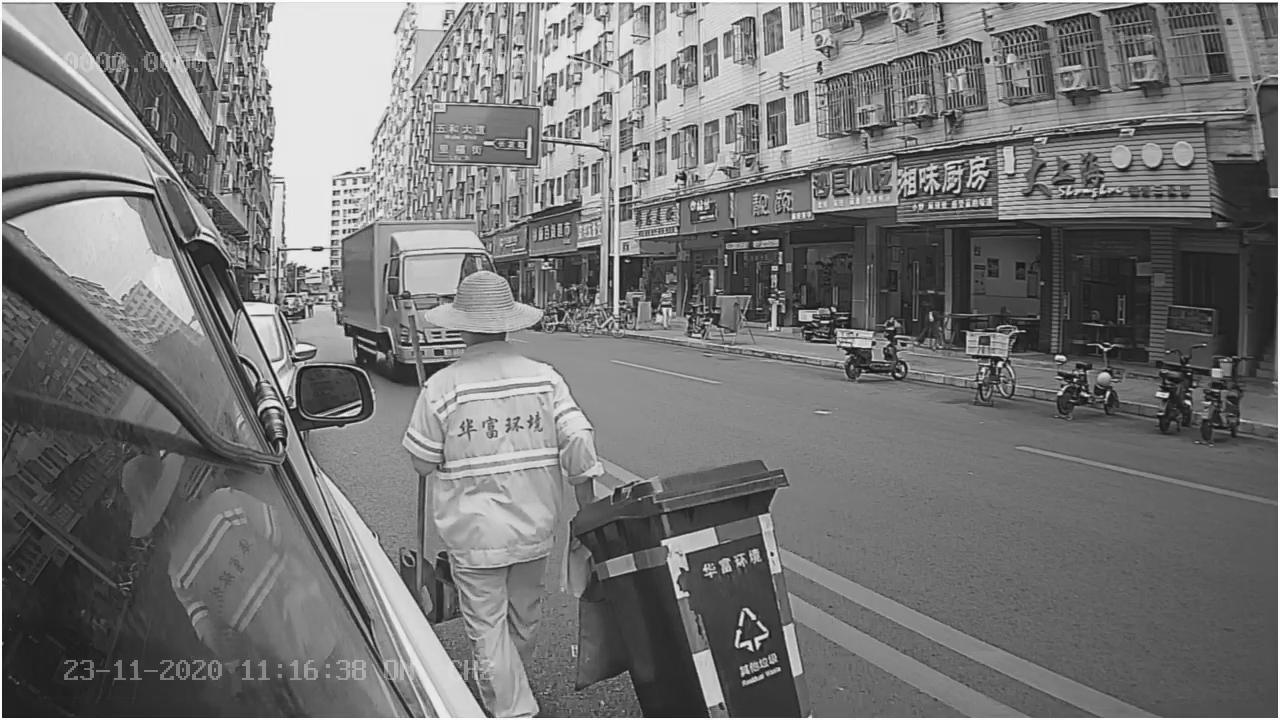person: (420, 271, 610, 497)
